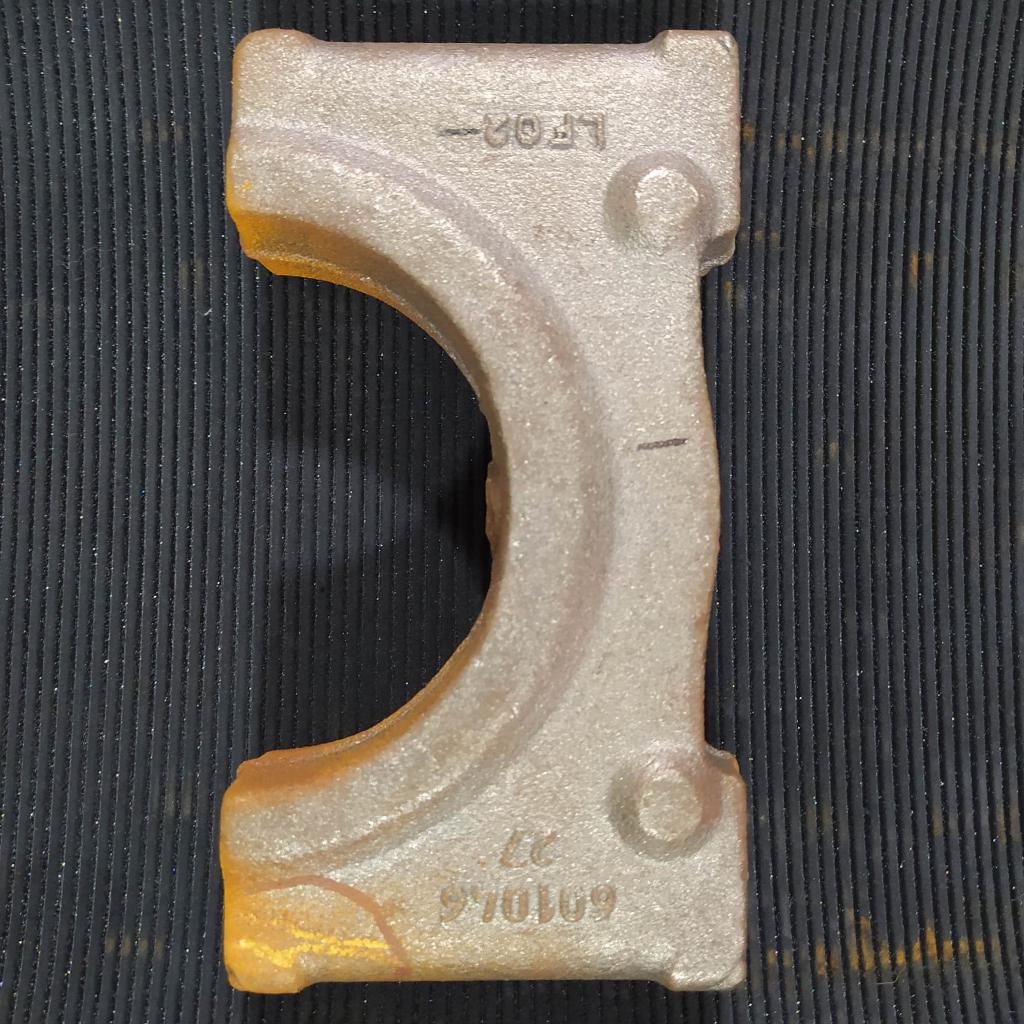rechupe: (708, 953, 746, 994), (713, 30, 736, 58)
